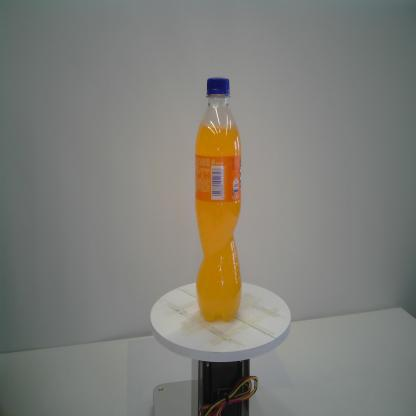Drink: (192, 75, 244, 324)
